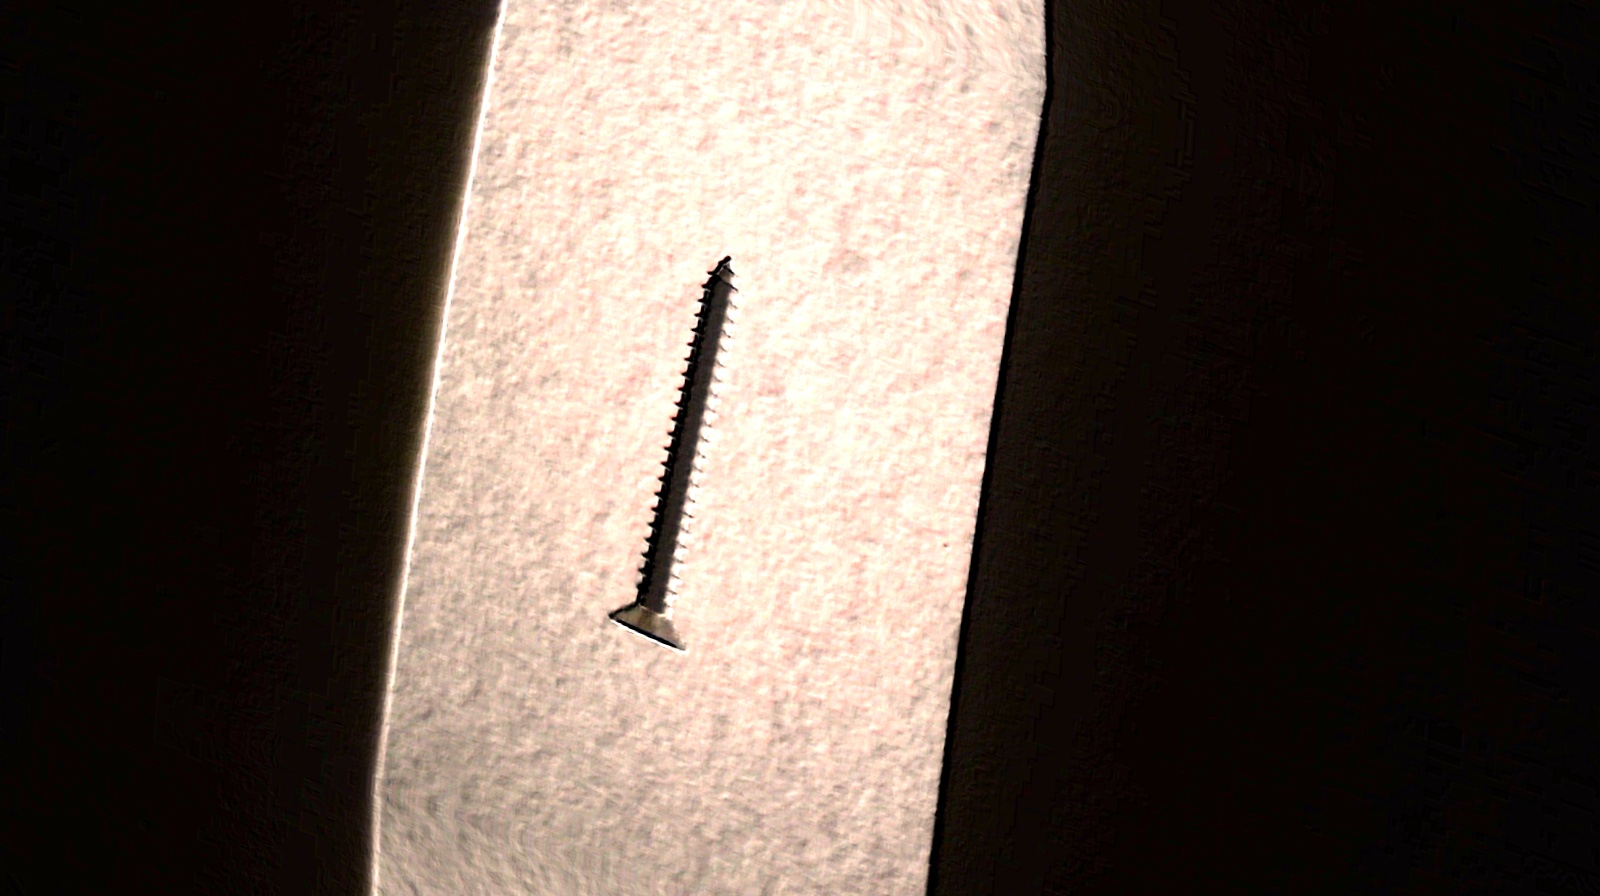S002: (592, 215, 755, 675)
